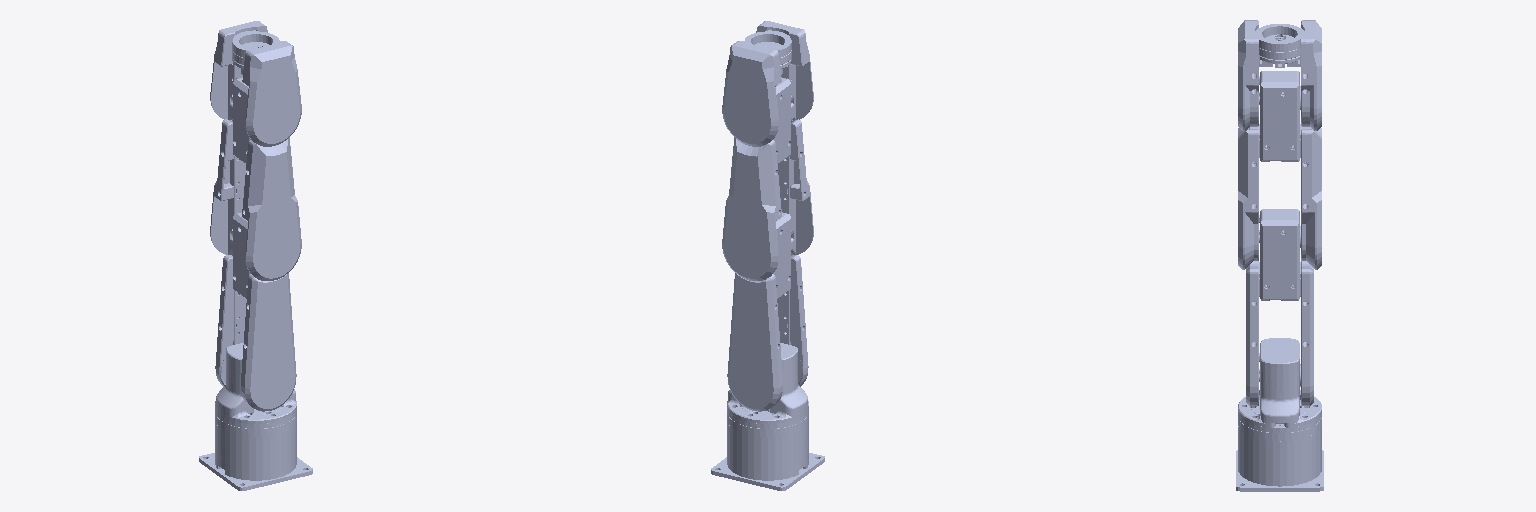
URDF robot description (Robot_Arm_Assm_URDF_V3):
<?xml version="1.0" encoding="utf-8"?>
<!-- This URDF was automatically created by SolidWorks to URDF Exporter! Originally created by [author] ([email redacted]) 
     Commit Version: 1.6.0-4-g7f85cfe  Build Version: 1.6.7995.38578
     For more information, please see http://wiki.ros.org/sw_urdf_exporter -->
<robot
  name="Robot_Arm_Assm_URDF_V3">
  <link
    name="base_link">
    <inertial>
      <origin
        xyz="0.00174105418715735 -2.53927850753978E-05 0.0307670219537523"
        rpy="0 0 0" />
      <mass
        value="0.33877545408827" />
      <inertia
        ixx="0.000321524433655965"
        ixy="6.36716999992406E-08"
        ixz="3.03060280961917E-06"
        iyy="0.000315235849976584"
        iyz="1.47799780096738E-09"
        izz="0.000458366989335765" />
    </inertial>
    <visual>
      <origin
        xyz="0 0 0"
        rpy="0 0 0" />
      <geometry>
        <mesh
          filename="package://Robot_Arm_Assm_URDF_V3/meshes/base_link.STL" />
      </geometry>
      <material
        name="">
        <color
          rgba="0.792156862745098 0.819607843137255 0.933333333333333 1" />
      </material>
    </visual>
    <collision>
      <origin
        xyz="0 0 0"
        rpy="0 0 0" />
      <geometry>
        <mesh
          filename="package://Robot_Arm_Assm_URDF_V3/meshes/base_link.STL" />
      </geometry>
    </collision>
  </link>
  <link
    name="Link_1">
    <inertial>
      <origin
        xyz="-0.00027947191966796 0.000368591109575269 0.0424859220965872"
        rpy="0 0 0" />
      <mass
        value="0.228490346680951" />
      <inertia
        ixx="0.000128874383520025"
        ixy="-3.61913078319114E-11"
        ixz="-1.50859944063957E-06"
        iyy="0.000169429654553301"
        iyz="-1.5390929957063E-07"
        izz="0.000174387910020561" />
    </inertial>
    <visual>
      <origin
        xyz="0 0 0"
        rpy="0 0 0" />
      <geometry>
        <mesh
          filename="package://Robot_Arm_Assm_URDF_V3/meshes/Link_1.STL" />
      </geometry>
      <material
        name="">
        <color
          rgba="0.792156862745098 0.819607843137255 0.933333333333333 1" />
      </material>
    </visual>
    <collision>
      <origin
        xyz="0 0 0"
        rpy="0 0 0" />
      <geometry>
        <mesh
          filename="package://Robot_Arm_Assm_URDF_V3/meshes/Link_1.STL" />
      </geometry>
    </collision>
  </link>
  <joint
    name="J0"
    type="revolute">
    <origin
      xyz="0 0 0.0504"
      rpy="0 0 0" />
    <parent
      link="base_link" />
    <child
      link="Link_1" />
    <axis
      xyz="0 0 1" />
    <limit
      lower="-2.35"
      upper="2.35"
      effort="0"
      velocity="0" />
  </joint>
  <link
    name="Link_2">
    <inertial>
      <origin
        xyz="-0.000134037066984291 0.0926692524282736 -0.000402368952060533"
        rpy="0 0 0" />
      <mass
        value="0.368983085959778" />
      <inertia
        ixx="0.000522400515221936"
        ixy="-4.81733152689523E-08"
        ixz="2.01205591683302E-08"
        iyy="0.000104394413222058"
        iyz="-3.50794905823595E-07"
        izz="0.000566205051397286" />
    </inertial>
    <visual>
      <origin
        xyz="0 0 0"
        rpy="0 0 0" />
      <geometry>
        <mesh
          filename="package://Robot_Arm_Assm_URDF_V3/meshes/Link_2.STL" />
      </geometry>
      <material
        name="">
        <color
          rgba="0.792156862745098 0.819607843137255 0.933333333333333 1" />
      </material>
    </visual>
    <collision>
      <origin
        xyz="0 0 0"
        rpy="0 0 0" />
      <geometry>
        <mesh
          filename="package://Robot_Arm_Assm_URDF_V3/meshes/Link_2.STL" />
      </geometry>
    </collision>
  </link>
  <joint
    name="J1"
    type="revolute">
    <origin
      xyz="0 0 0.07055"
      rpy="1.5708 0 0" />
    <parent
      link="Link_1" />
    <child
      link="Link_2" />
    <axis
      xyz="0 0 1" />
    <limit
      lower="-2.35"
      upper="2.35"
      effort="0"
      velocity="0" />
  </joint>
  <link
    name="Link_3">
    <inertial>
      <origin
        xyz="0.00145633926975645 0.0800023567954597 -0.000284130934828797"
        rpy="0 0 0" />
      <mass
        value="0.4415439104501" />
      <inertia
        ixx="0.000779817982780023"
        ixy="2.32830488627226E-05"
        ixz="2.01263966804819E-08"
        iyy="0.000136572719388713"
        iyz="-1.15734952866257E-07"
        izz="0.000842488656489681" />
    </inertial>
    <visual>
      <origin
        xyz="0 0 0"
        rpy="0 0 0" />
      <geometry>
        <mesh
          filename="package://Robot_Arm_Assm_URDF_V3/meshes/Link_3.STL" />
      </geometry>
      <material
        name="">
        <color
          rgba="0.792156862745098 0.819607843137255 0.933333333333333 1" />
      </material>
    </visual>
    <collision>
      <origin
        xyz="0 0 0"
        rpy="0 0 0" />
      <geometry>
        <mesh
          filename="package://Robot_Arm_Assm_URDF_V3/meshes/Link_3.STL" />
      </geometry>
    </collision>
  </link>
  <joint
    name="J2"
    type="revolute">
    <origin
      xyz="0 0.17255 0"
      rpy="0 0 0" />
    <parent
      link="Link_2" />
    <child
      link="Link_3" />
    <axis
      xyz="0 0 1" />
    <limit
      lower="-2.35"
      upper="2.35"
      effort="0"
      velocity="0" />
  </joint>
  <link
    name="Link_4">
    <inertial>
      <origin
        xyz="0.00274296814570833 0.0339093154359968 -0.000143488392322934"
        rpy="0 0 0" />
      <mass
        value="0.304448082470262" />
      <inertia
        ixx="0.000306064175500617"
        ixy="1.33601961747312E-05"
        ixz="2.35235587241405E-11"
        iyy="0.000119798213121819"
        iyz="3.5780159560526E-07"
        izz="0.00036138448367862" />
    </inertial>
    <visual>
      <origin
        xyz="0 0 0"
        rpy="0 0 0" />
      <geometry>
        <mesh
          filename="package://Robot_Arm_Assm_URDF_V3/meshes/Link_4.STL" />
      </geometry>
      <material
        name="">
        <color
          rgba="0.792156862745098 0.819607843137255 0.933333333333333 1" />
      </material>
    </visual>
    <collision>
      <origin
        xyz="0 0 0"
        rpy="0 0 0" />
      <geometry>
        <mesh
          filename="package://Robot_Arm_Assm_URDF_V3/meshes/Link_4.STL" />
      </geometry>
    </collision>
  </link>
  <joint
    name="J3"
    type="revolute">
    <origin
      xyz="0 0.17255 0"
      rpy="0 0 0" />
    <parent
      link="Link_3" />
    <child
      link="Link_4" />
    <axis
      xyz="0 0 1" />
    <limit
      lower="-2.35"
      upper="2.35"
      effort="0"
      velocity="0" />
  </joint>
  <link
    name="Link_5">
    <inertial>
      <origin
        xyz="6.48859938279436E-15 -3.00378211887109E-16 0.0101100349990881"
        rpy="0 0 0" />
      <mass
        value="0.0158680457964436" />
      <inertia
        ixx="2.6066479252516E-06"
        ixy="-8.46839187126717E-09"
        ixz="1.69912831022904E-20"
        iyy="2.57710635200438E-06"
        iyz="-2.22891799027838E-20"
        izz="4.68375833103549E-06" />
    </inertial>
    <visual>
      <origin
        xyz="0 0 0"
        rpy="0 0 0" />
      <geometry>
        <mesh
          filename="package://Robot_Arm_Assm_URDF_V3/meshes/Link_5.STL" />
      </geometry>
      <material
        name="">
        <color
          rgba="0.792156862745098 0.819607843137255 0.933333333333333 1" />
      </material>
    </visual>
    <collision>
      <origin
        xyz="0 0 0"
        rpy="0 0 0" />
      <geometry>
        <mesh
          filename="package://Robot_Arm_Assm_URDF_V3/meshes/Link_5.STL" />
      </geometry>
    </collision>
  </link>
  <joint
    name="J4"
    type="revolute">
    <origin
      xyz="0 0.07 0"
      rpy="1.5708 0 0" />
    <parent
      link="Link_4" />
    <child
      link="Link_5" />
    <axis
      xyz="0 0 1" />
    <limit
      lower="-2.35"
      upper="2.35"
      effort="0"
      velocity="0" />
  </joint>
</robot>

--- Render facts (derived) ---
Views: 3 orthographic renders of the robot side by side, from view 1: azimuth 30°, elevation 25°; view 2: azimuth 150°, elevation 25°; view 3: azimuth 270°, elevation 25°.
Model Robot_Arm_Assm_URDF_V3 with 6 links and 5 joints (5 revolute), rooted at base_link, posed every joint at zero.
Links seen in each view (by area): view 1: Link_3, Link_2, Link_4, base_link, Link_1; view 2: Link_3, Link_2, Link_4, base_link, Link_1; view 3: Link_3, Link_2, Link_4, base_link, Link_1.
Boxes of the visible links, <box> form: Link_3: <box>210,77,301,280</box>; Link_2: <box>215,212,296,411</box>; Link_4: <box>210,21,301,146</box>; base_link: <box>199,414,312,490</box>; Link_1: <box>215,343,296,428</box>; Link_3: <box>722,77,813,280</box>; Link_2: <box>727,212,808,411</box>; Link_4: <box>722,21,813,146</box>; base_link: <box>711,414,824,490</box>; Link_1: <box>727,343,808,428</box>; Link_3: <box>1238,71,1321,269</box>; Link_2: <box>1246,209,1313,405</box>; Link_4: <box>1238,20,1321,130</box>; base_link: <box>1236,418,1323,491</box>; Link_1: <box>1238,338,1321,432</box>.
Bounding box of the posed robot: 0.1 × 0.1 × 0.5511 m (x, y, z).
6 mesh visuals loaded from 6 distinct referenced files (6 binary STL).